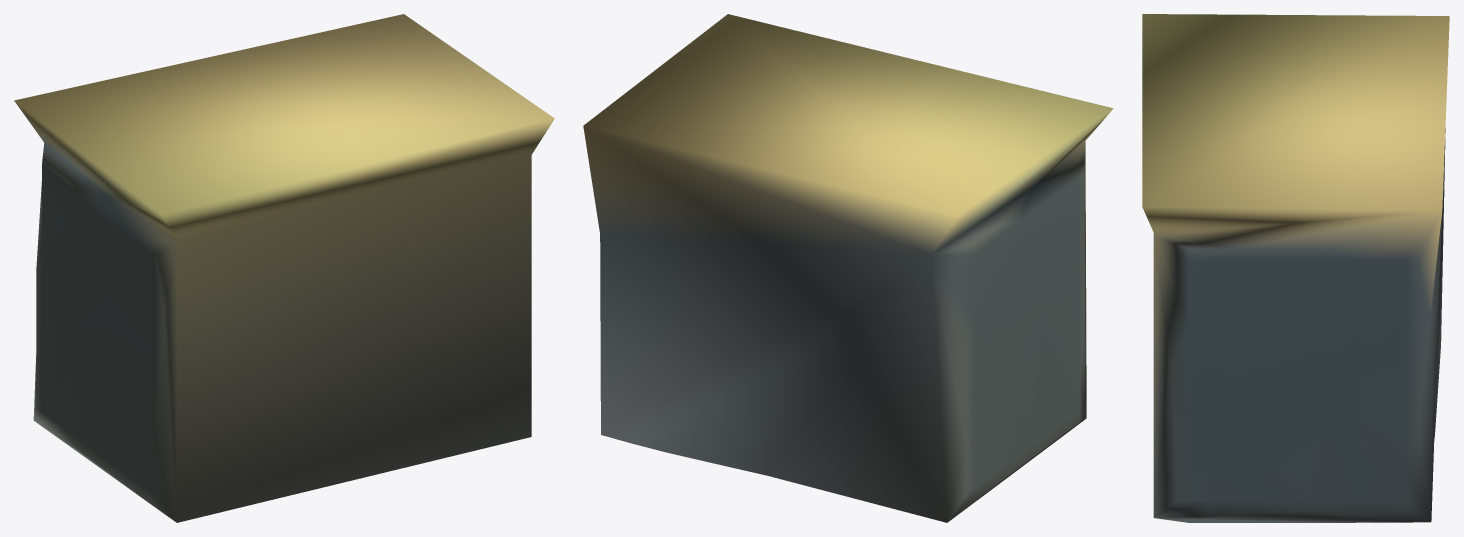
The model's file is env_p_crate_cache.glb.
3 views of the same model, side by side, from view 1: azimuth 30°, elevation 25°; view 2: azimuth 150°, elevation 25°; view 3: azimuth 270°, elevation 25° (orthographic). The views are drawn at different scales.
Visible parts, largest first — view 1: geometry_0; view 2: geometry_0; view 3: geometry_0.
Part boxes in pixels (x1,y1,x2,y2): geometry_0: (14, 14, 554, 522); geometry_0: (583, 14, 1113, 522); geometry_0: (1142, 14, 1449, 522).
Size of the model in its own units: 0.9479 by 0.758 by 0.6378.
